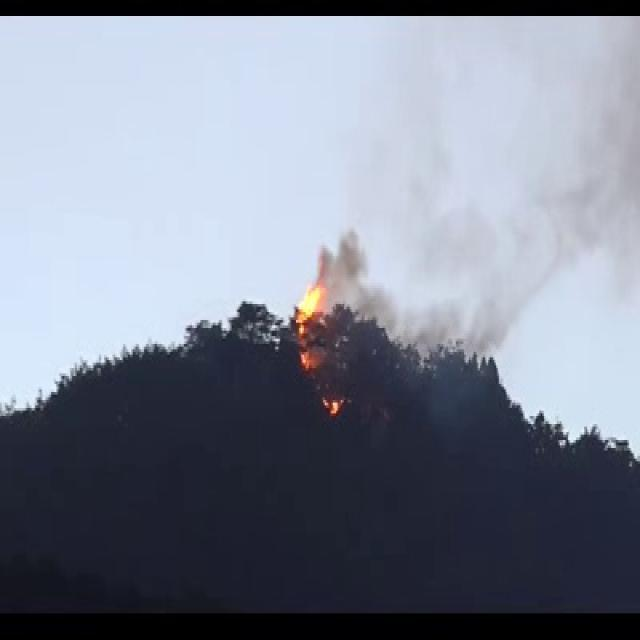Fire: (298, 286, 336, 417)
Smoke: (341, 230, 527, 346)
